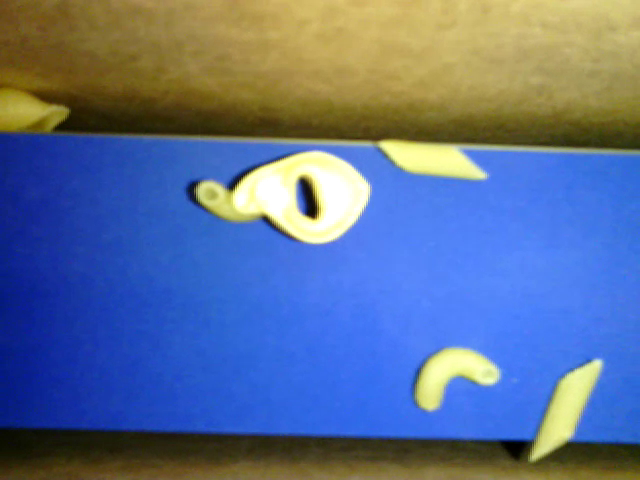elbow: (414, 347, 500, 409), (197, 173, 265, 225)
penne: (527, 356, 604, 458), (377, 135, 489, 178)
shell: (1, 85, 73, 133)
tortellini: (232, 149, 372, 246)
